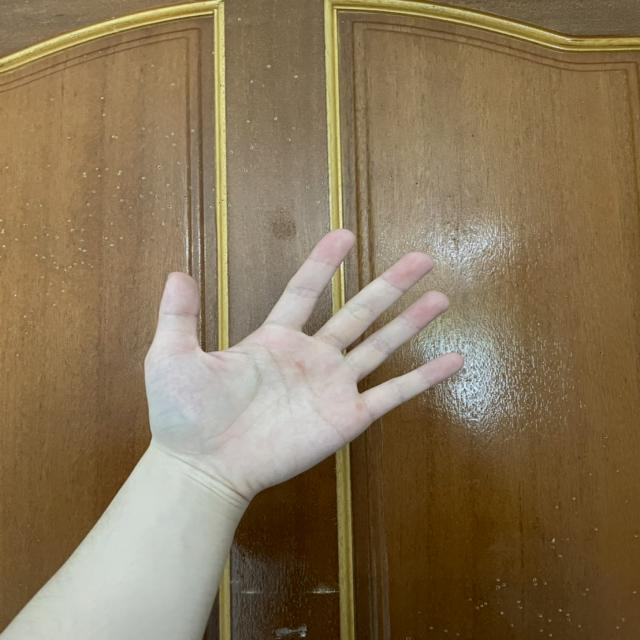no_glove: (133, 217, 472, 500)
